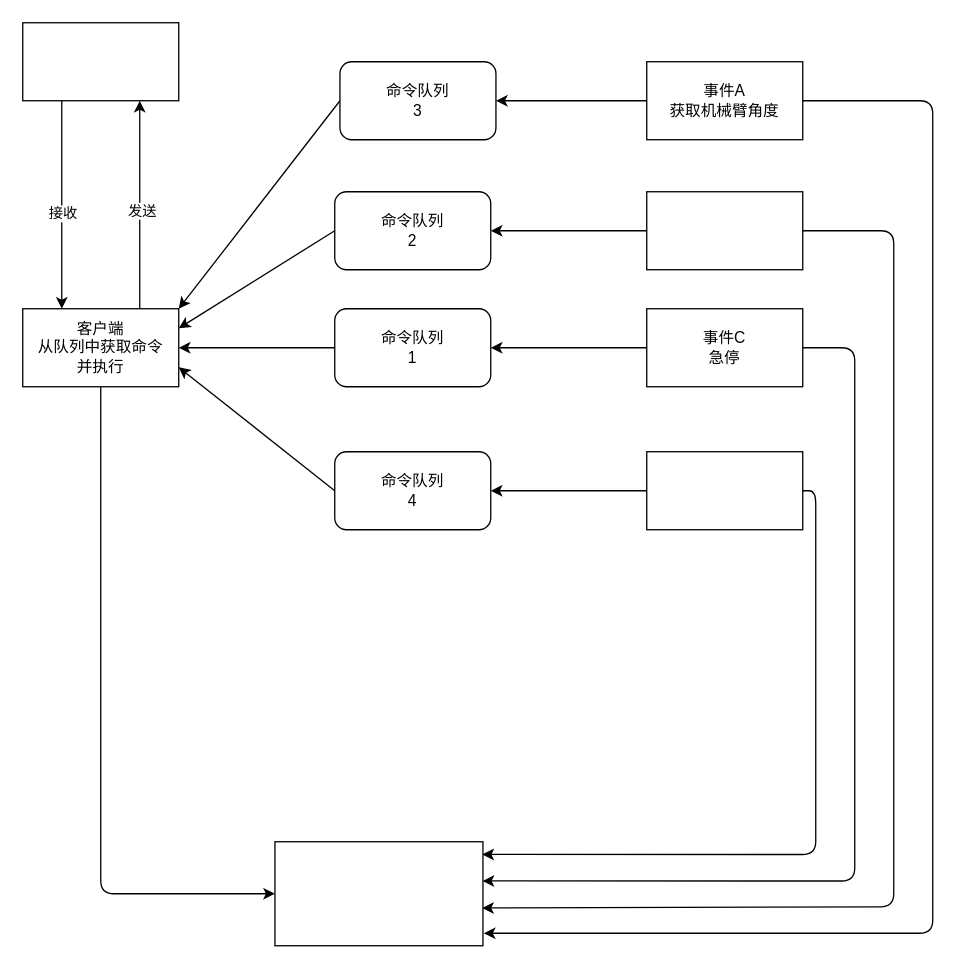
Image size: 966x968. Some labels were removed from this diagram. Each missing label, with the centre of its shape:
"事件B 关节 1 角度+20度" goes at (x=724, y=230).
"事件D" goes at (x=724, y=490).
"日志记录" goes at (x=378, y=893).
"机械臂服务端" goes at (x=100, y=61).
